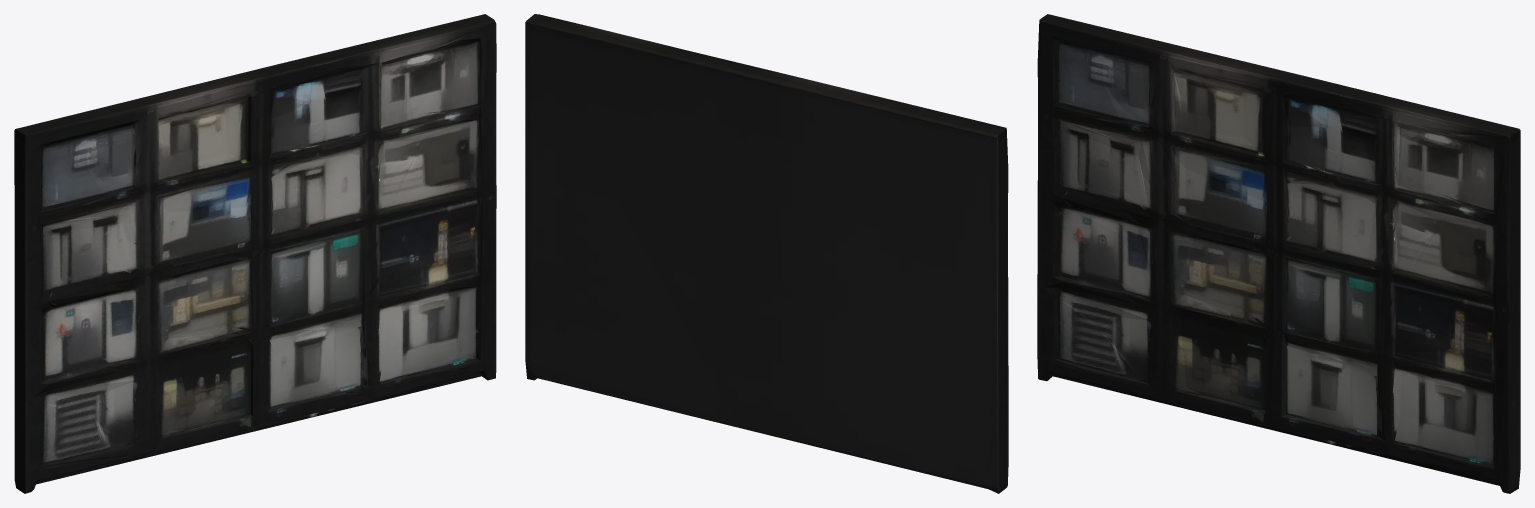
File: surveillance-monitors-on.glb
The picture shows the model from 3 angles, left to right: view 1: azimuth 30°, elevation 25°; view 2: azimuth 150°, elevation 25°; view 3: azimuth 330°, elevation 25°; orthographic projection.
Parts seen in each view (by area): view 1: geometry_0; view 2: geometry_0; view 3: geometry_0.
Part boxes in pixels (x1,y1,x2,y2): geometry_0: (14,14,496,493); geometry_0: (525,14,1008,493); geometry_0: (1037,14,1520,493).
Size of the model in its own units: 0.9982 by 0.7268 by 0.0436.
1 material, 1 textured.
